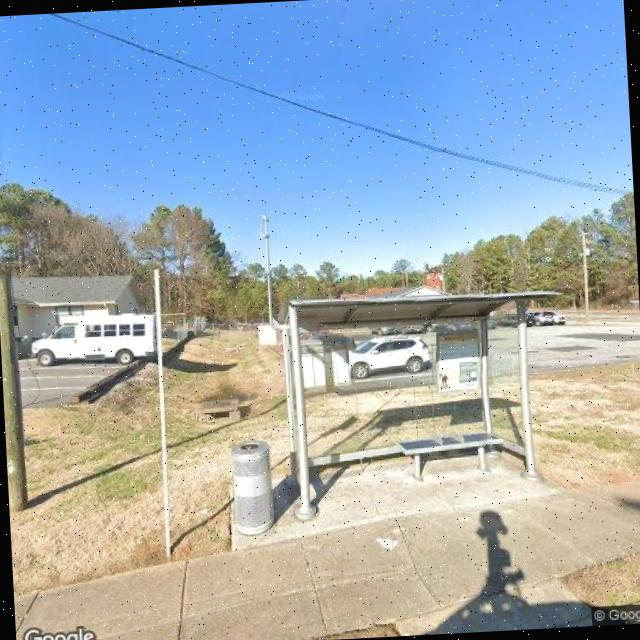seating: (391, 432, 508, 484)
shelter: (273, 284, 582, 525)
trash_can: (230, 442, 276, 538)
